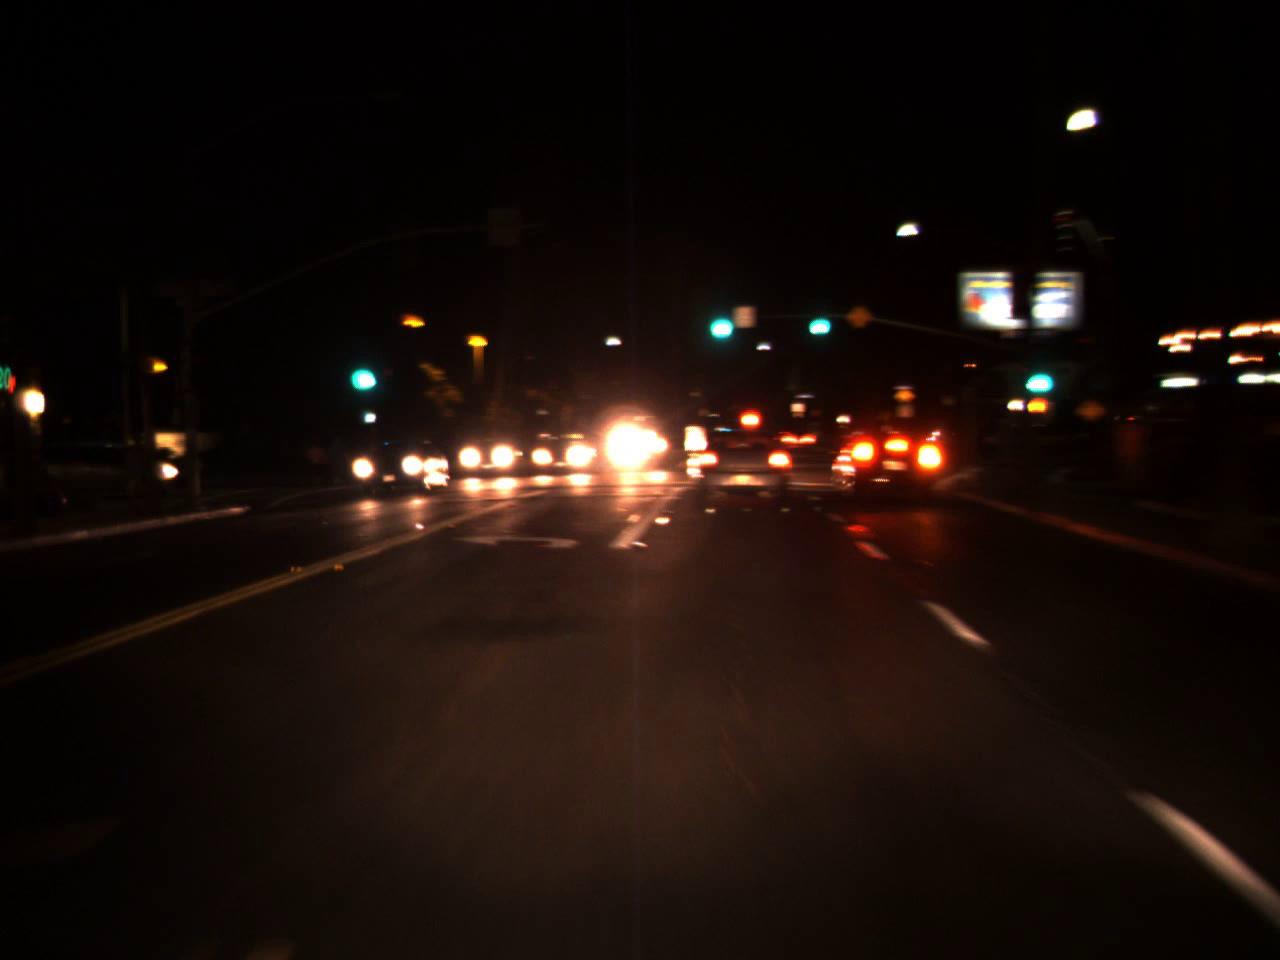go: (1013, 349, 1059, 400), (341, 341, 378, 398), (800, 301, 836, 339), (701, 303, 738, 336)
